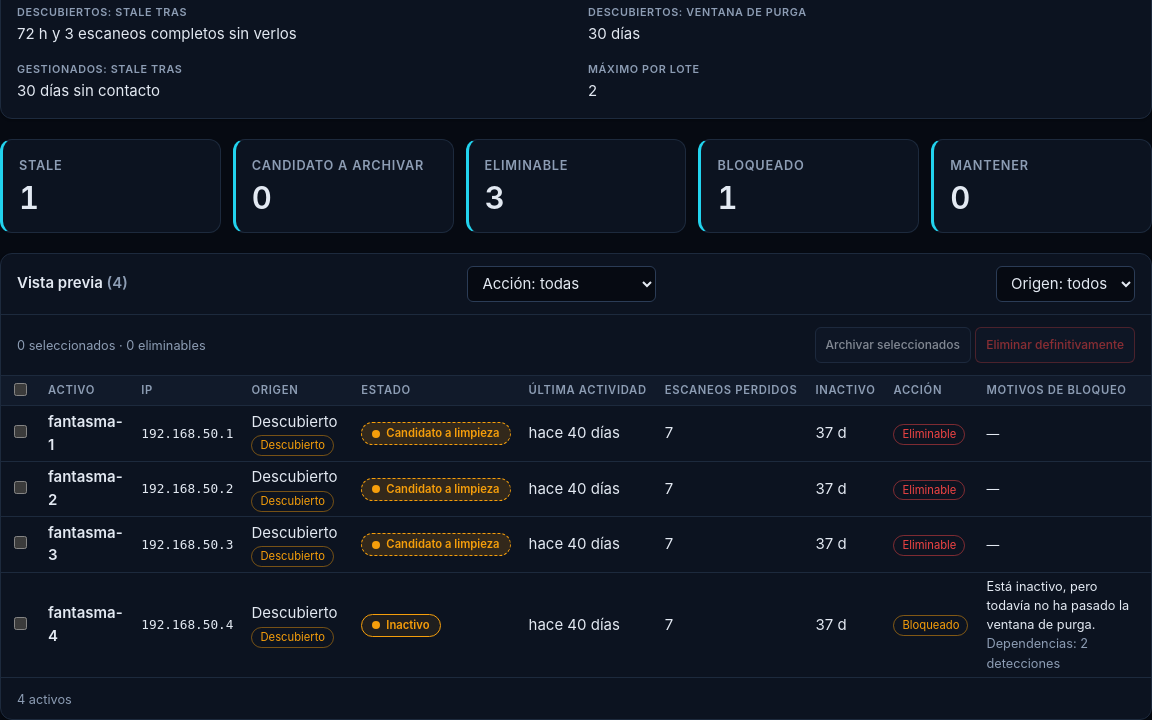
Scenario: LifecyclePage › archives the selection with a mandatory reason
The image size is (1152, 720).
(page scrolled)
Check: the link "fantasma-4" is shown, box [48,603,123,645]
Check: the button "Eliminar definitivamente" is disabled, box [975,326,1135,362]
Step 1. Click the checkbox named "Seleccionar fantasma-4" → (20, 623), box [14,617,27,630]
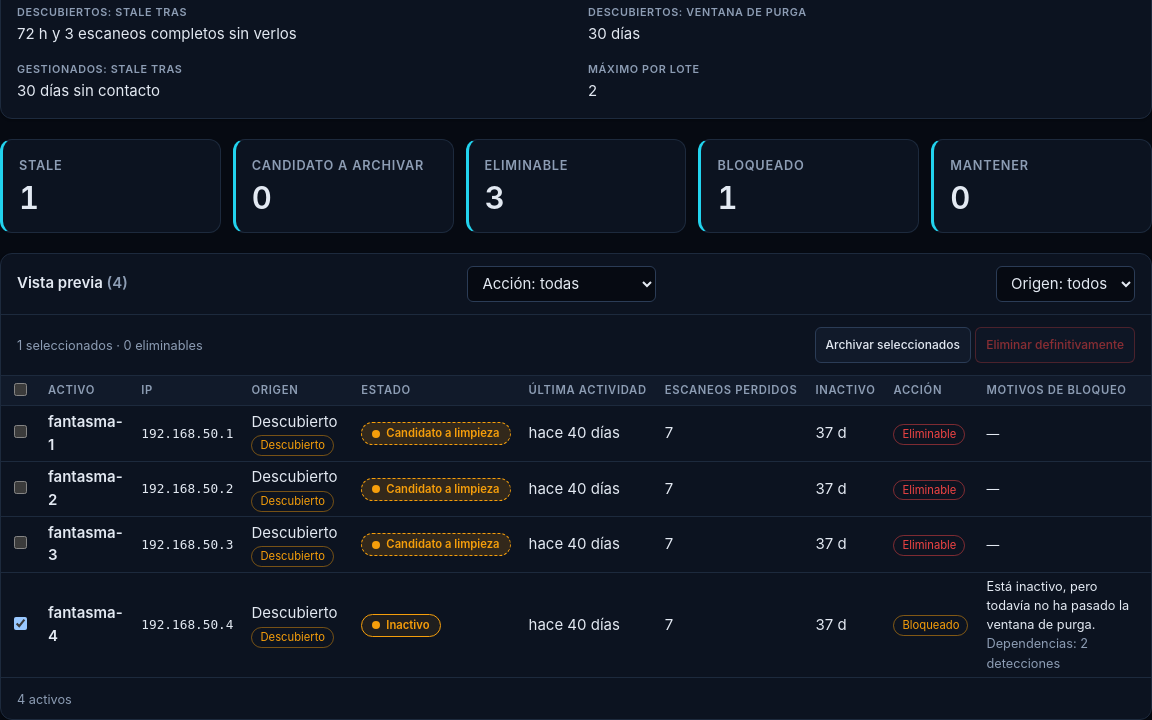
Check: the button "Eliminar definitivamente" is disabled, box [975,326,1135,362]
Step 2. Click the button "Archivar seleccionados" → (893, 344), box [814,326,971,362]
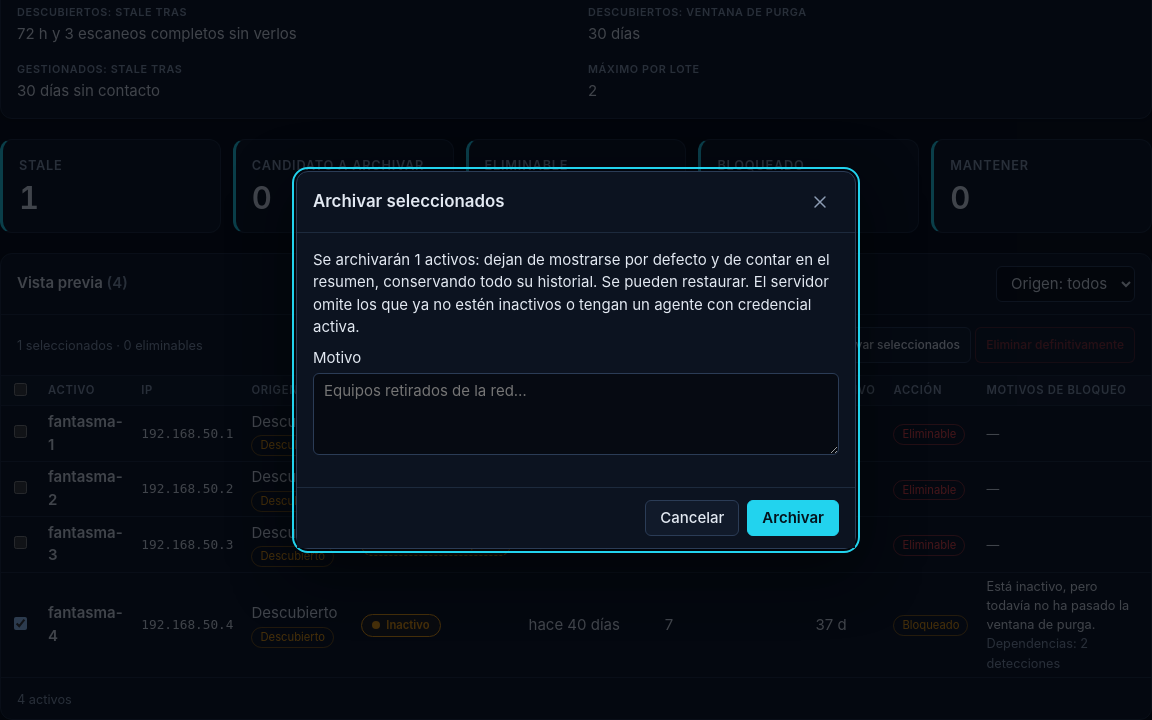
Step 3. Click the button "Archivar" → (793, 518), box [747,500,839,536]
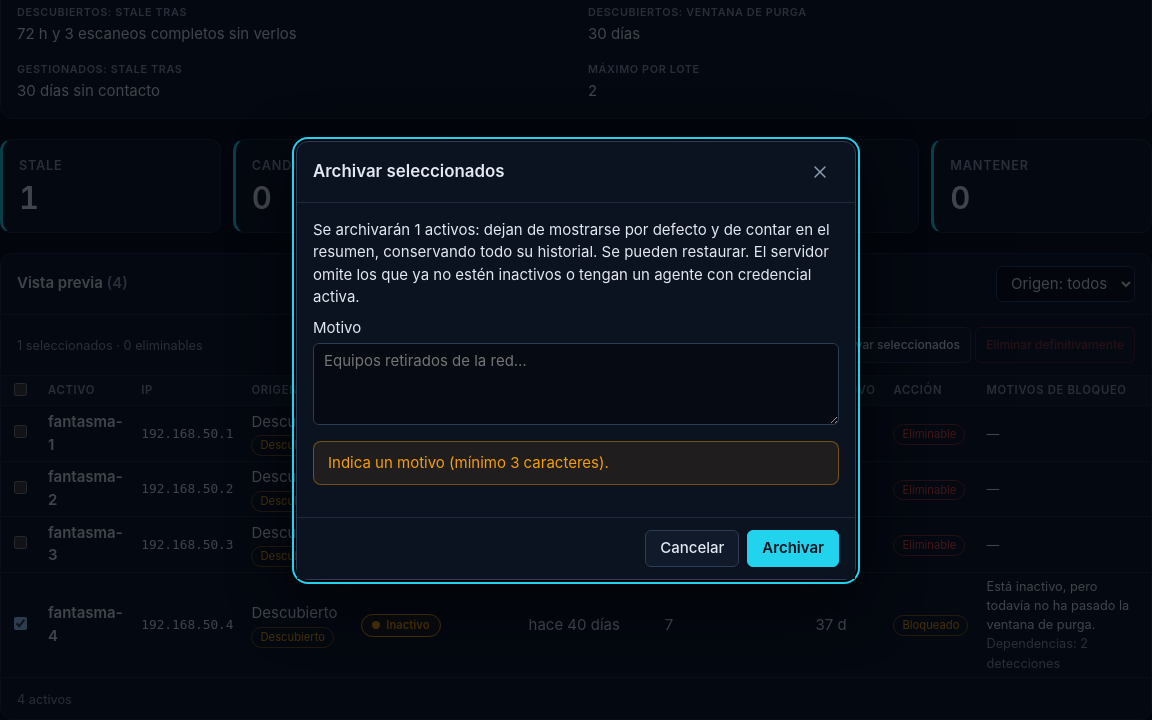
Check: the message shows "Indica un motivo", box [328,452,609,472]
Step 4. Type "Retirados" into the text box → (576, 384), box [313,343,839,424]
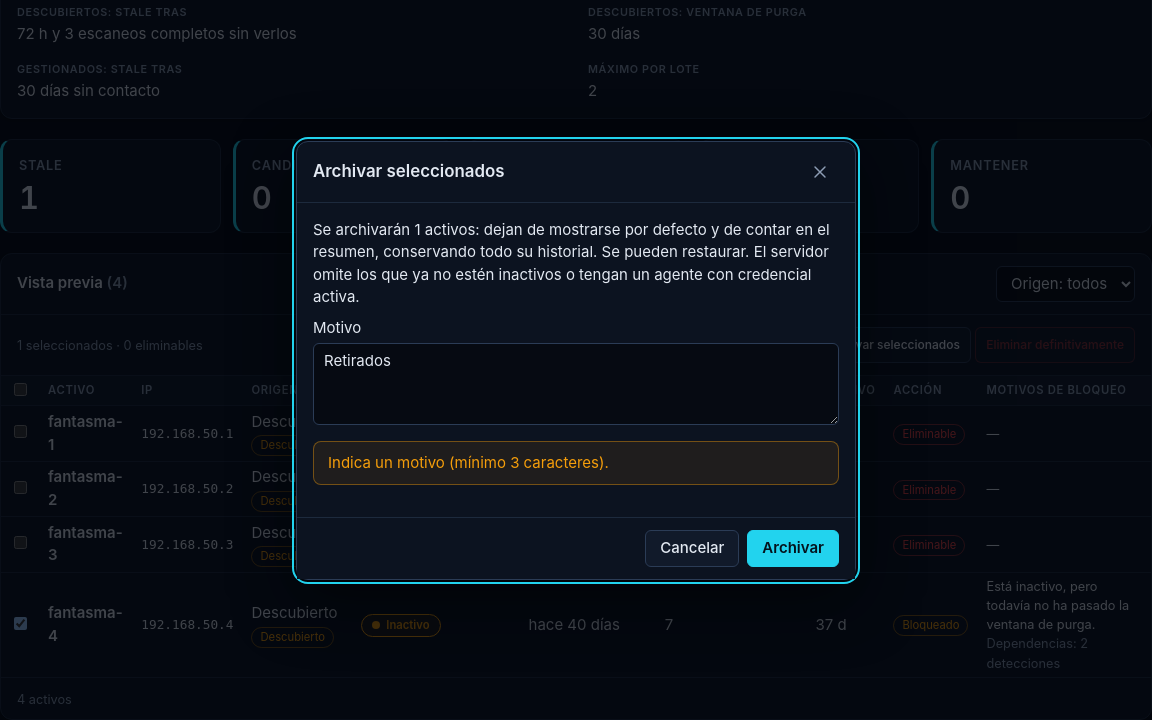
Step 5. Click the button "Archivar" → (793, 548), box [747,530,839,566]
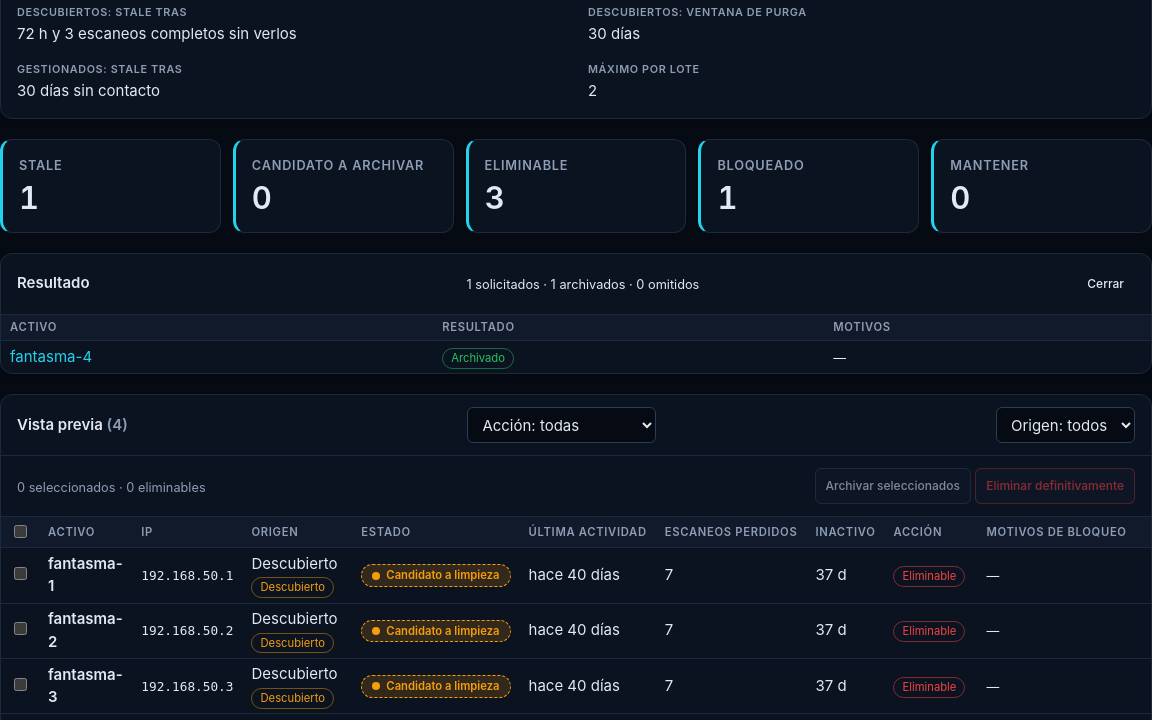
Check: the element named "Resultado de la limpieza" shows "1 archivados", box [0,252,1151,374]
